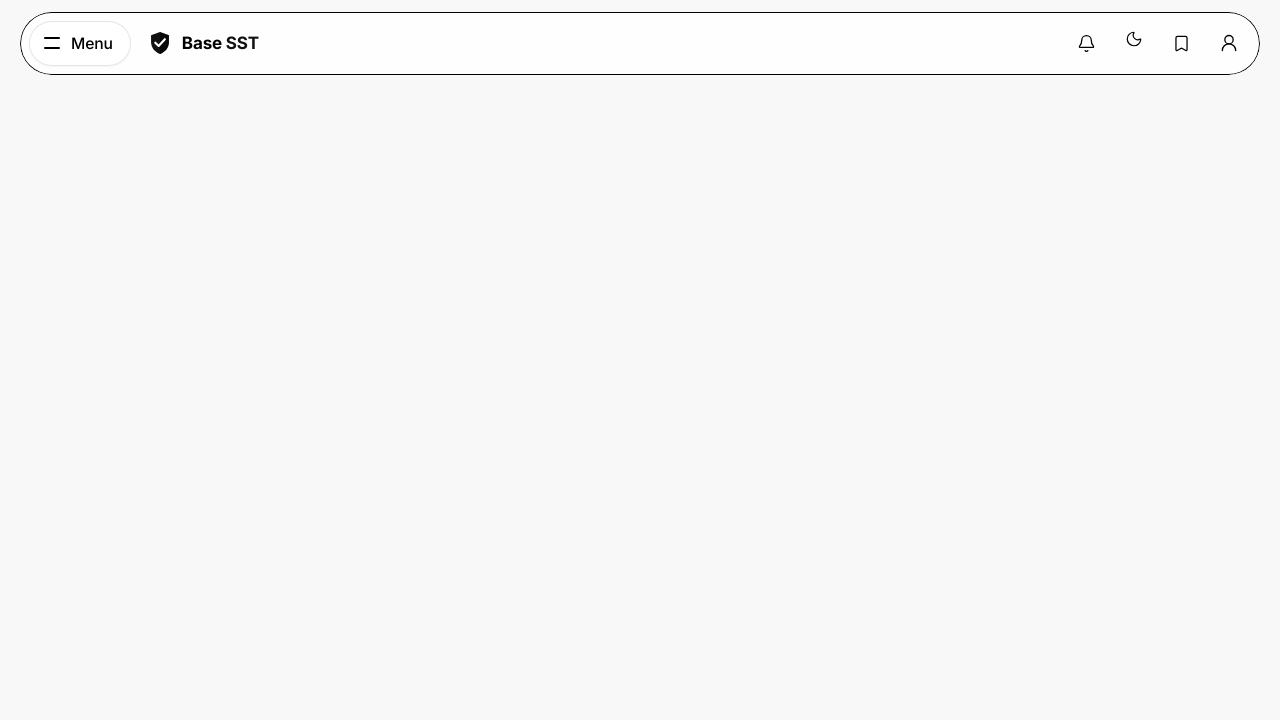
Test: Sidebar (cabeçalho + menu) › alertas sem suporte do navegador: avisa
Click the button named "Alertas". click: (1086, 43)
box: 1064,21 -> 1109,66
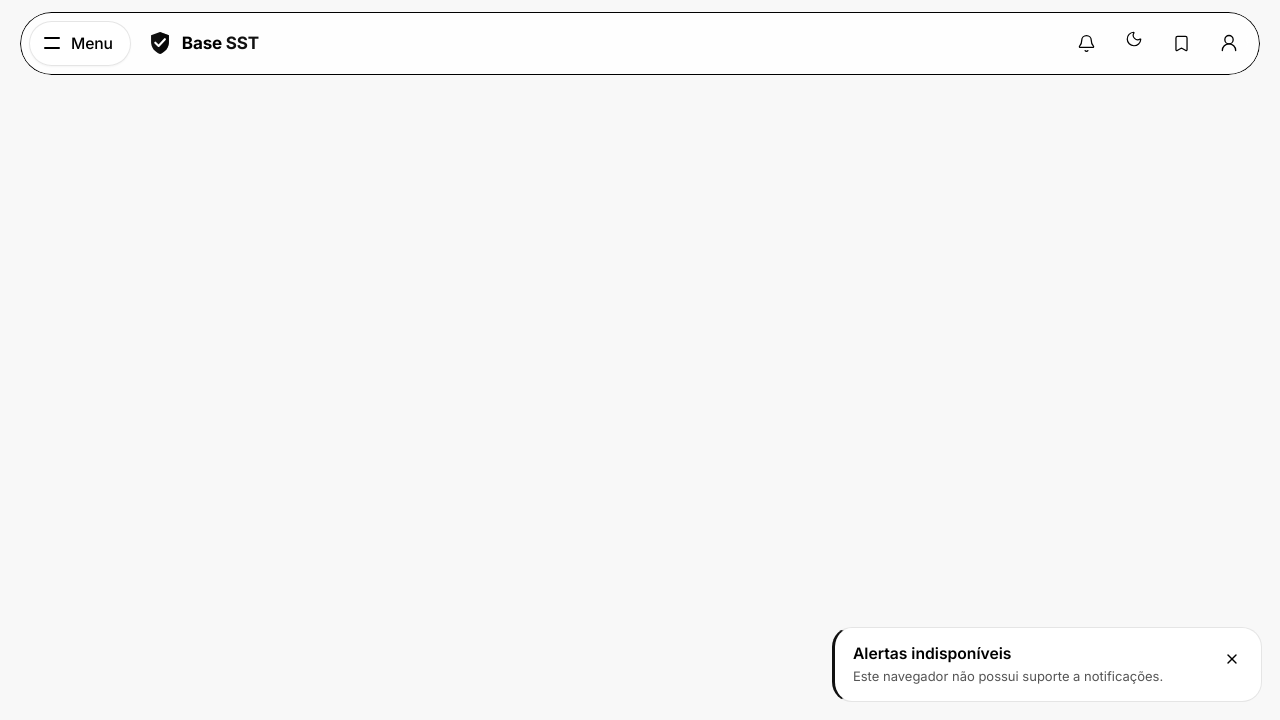
Expected: the message shows "não possui suporte", 853,668 -> 1163,684
